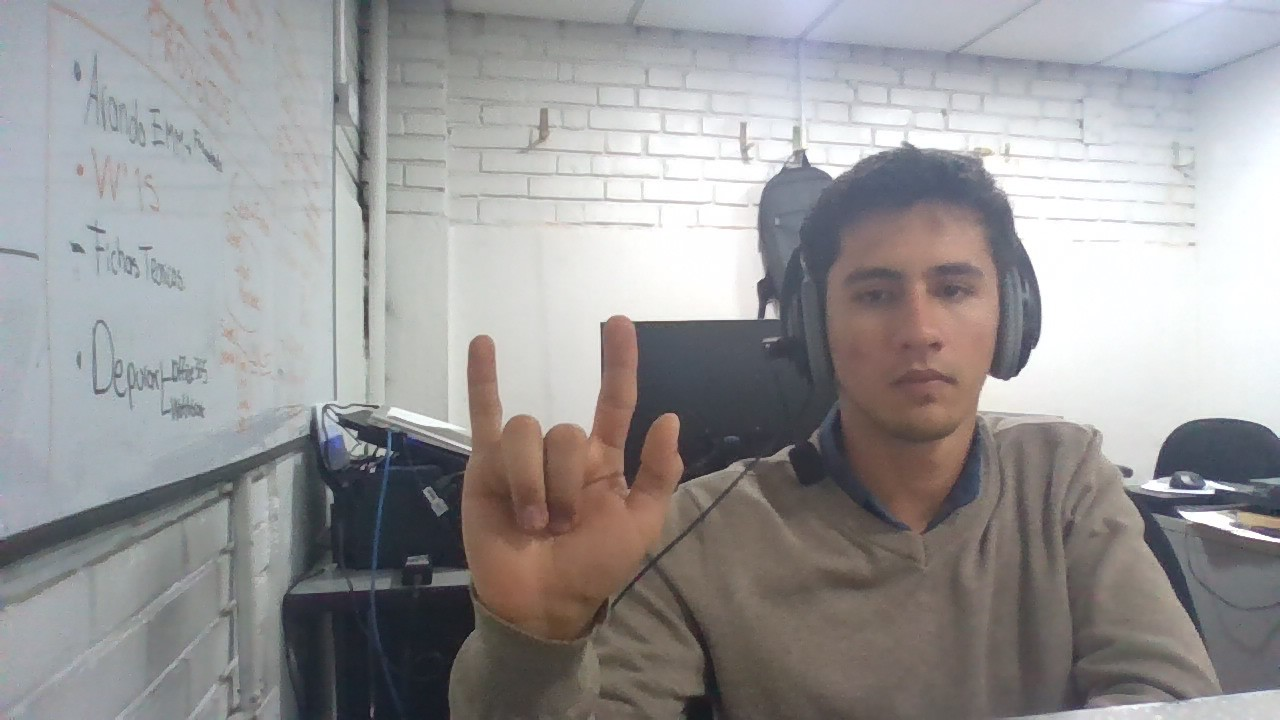te_amo: (439, 307, 702, 651)
